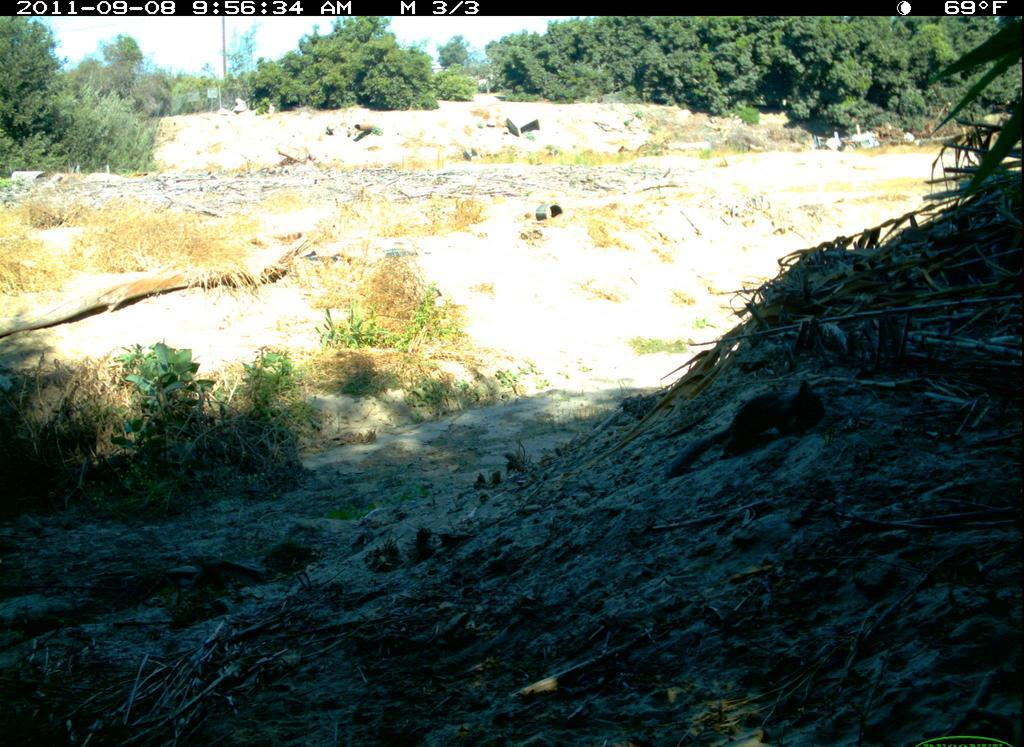squirrel: (669, 383, 836, 470)
